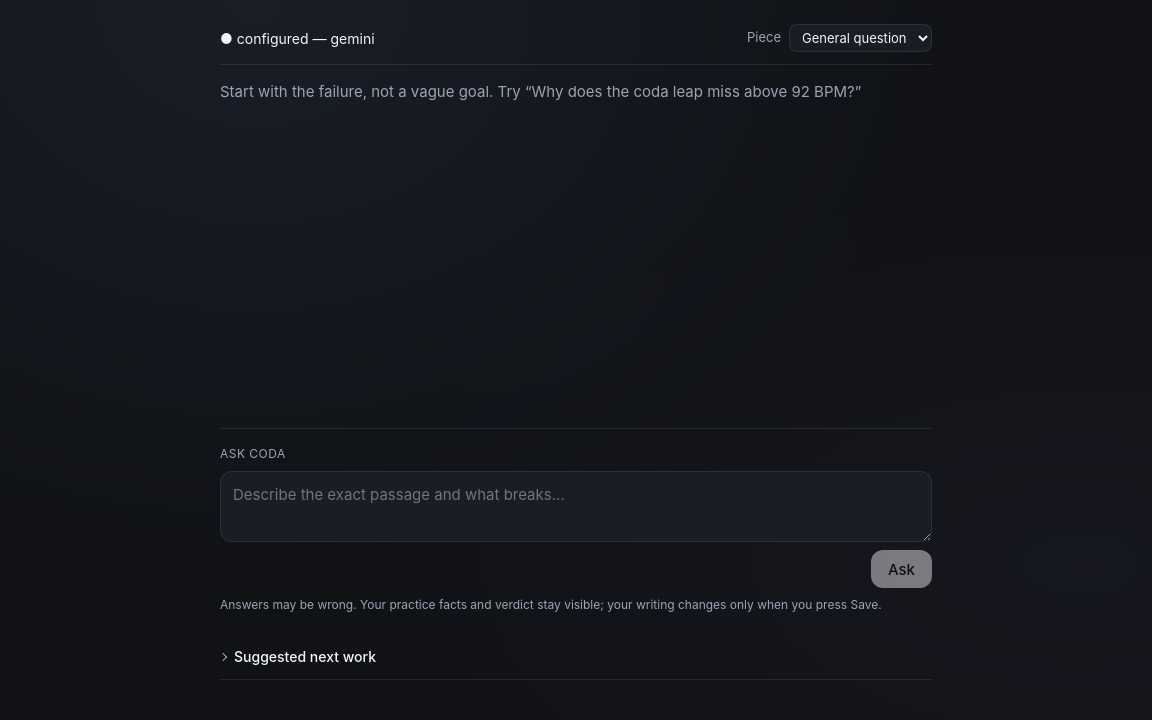
Scenario: BrainWorkspace › clears the conversation and starts a fresh empty thread
Select "Scherzo No. 2" in the dropdown named "Piece thread" at (860, 38), box [789,24,932,52]
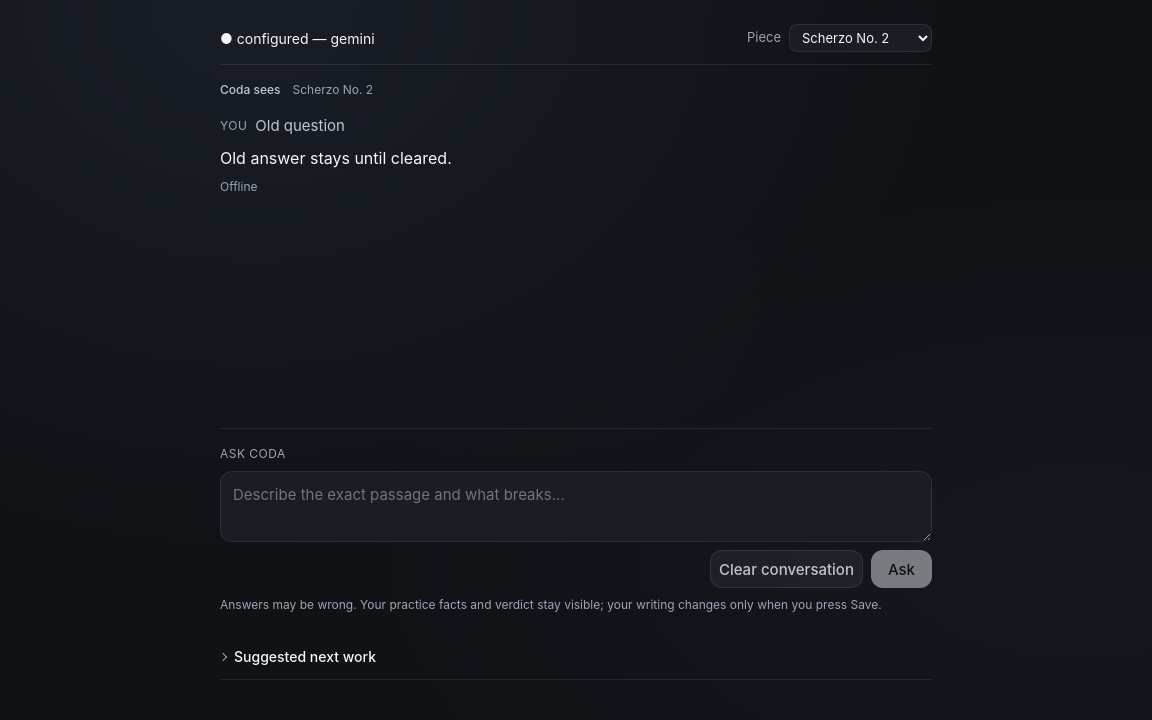
Expected: the text "Old answer stays until cleared." is shown, [220,148,452,168]
Click the button with test id "brain-clear-conversation" at (786, 569), box [710,550,863,588]
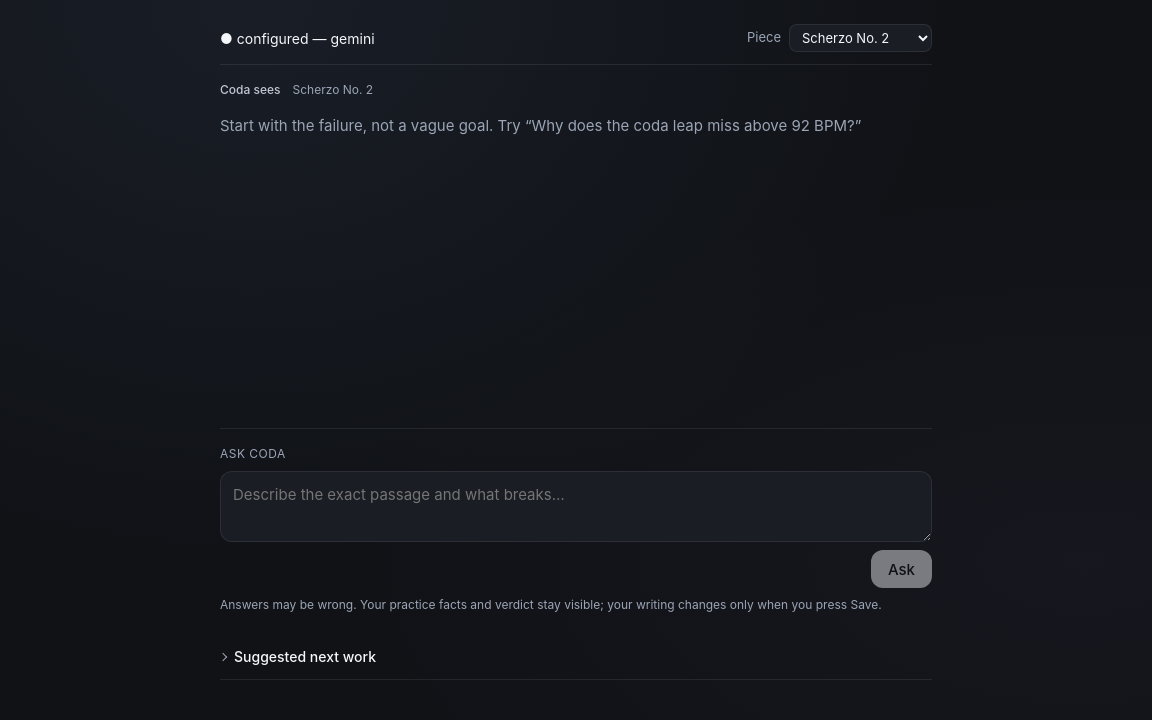
Expected: the text "Old answer stays until cleared." is gone
